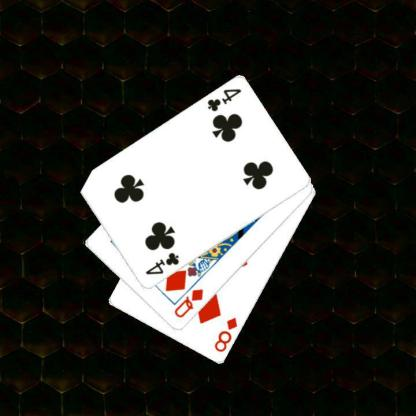4C: (204, 86, 242, 113), (143, 250, 180, 277)
8D: (211, 315, 238, 353)
QD: (172, 286, 204, 320)
